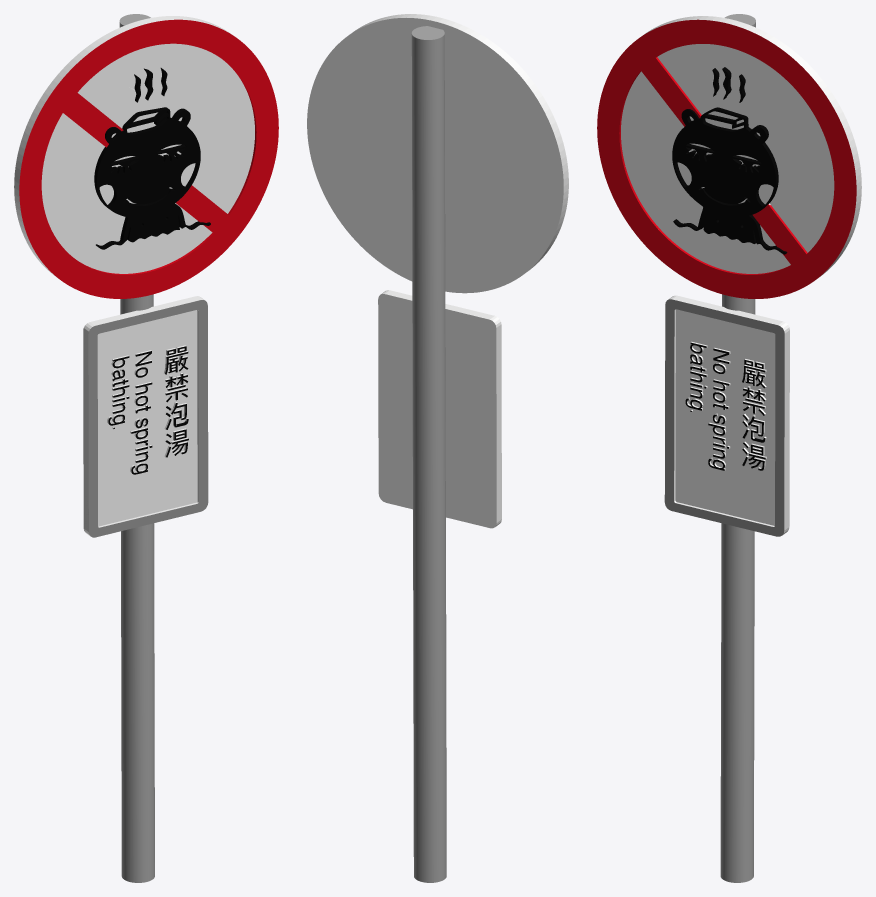
The model's file is warning.glb.
3 renders of one model, left to right at view 1: azimuth 30°, elevation 25°; view 2: azimuth 150°, elevation 25°; view 3: azimuth 330°, elevation 25°, orthographic.
Visible parts, largest first — view 1: 嚴禁泡湯（上色用）.001, watch tower final ver2, 柱子, 嚴禁泡湯（上色用）.005; view 2: 嚴禁泡湯（上色用）.001, 柱子, watch tower final ver2; view 3: 嚴禁泡湯（上色用）.001, watch tower final ver2, 柱子, 嚴禁泡湯（上色用）.005.
Boxes of the visible parts, box(x1,y1,x2,y2) form: 嚴禁泡湯（上色用）.001: box(14, 16, 278, 298); watch tower final ver2: box(83, 296, 208, 537); 柱子: box(119, 14, 154, 882); 嚴禁泡湯（上色用）.005: box(94, 68, 210, 249); 嚴禁泡湯（上色用）.001: box(307, 14, 568, 293); 柱子: box(411, 26, 446, 882); watch tower final ver2: box(378, 290, 501, 528); 嚴禁泡湯（上色用）.001: box(597, 16, 861, 298); watch tower final ver2: box(664, 295, 789, 536); 柱子: box(720, 14, 755, 882); 嚴禁泡湯（上色用）.005: box(672, 67, 787, 254).
Size of the model in its own units: 315 by 998 by 47.21.
